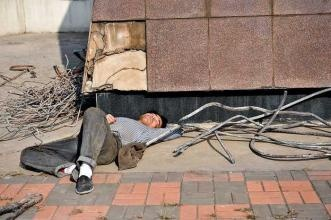falling: (14, 100, 178, 195)
